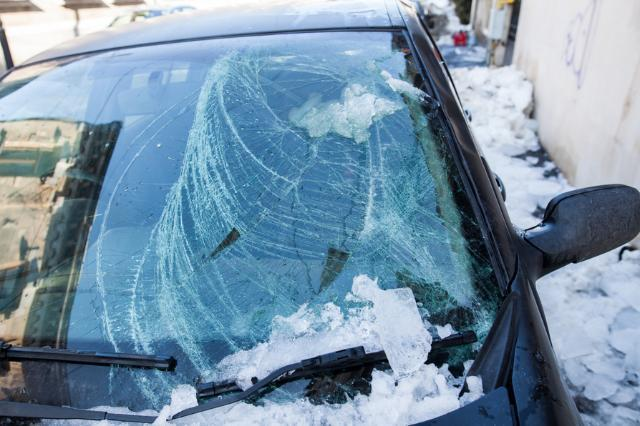Windshield: (82, 31, 483, 413)
